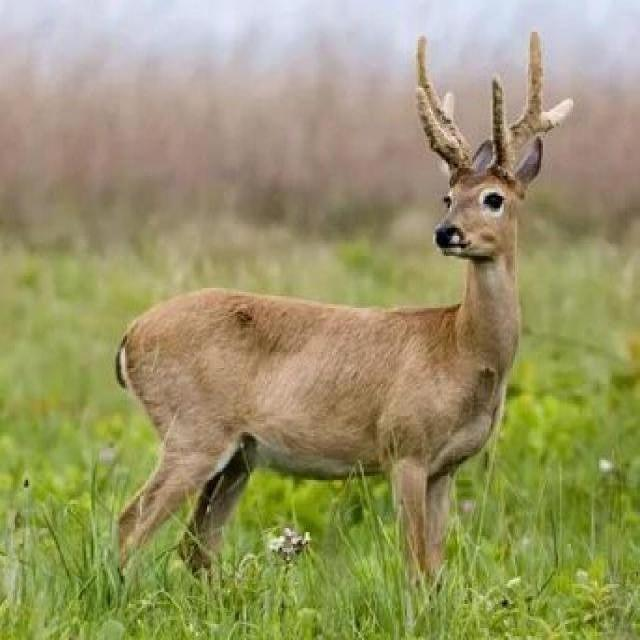deer: (84, 0, 594, 559)
